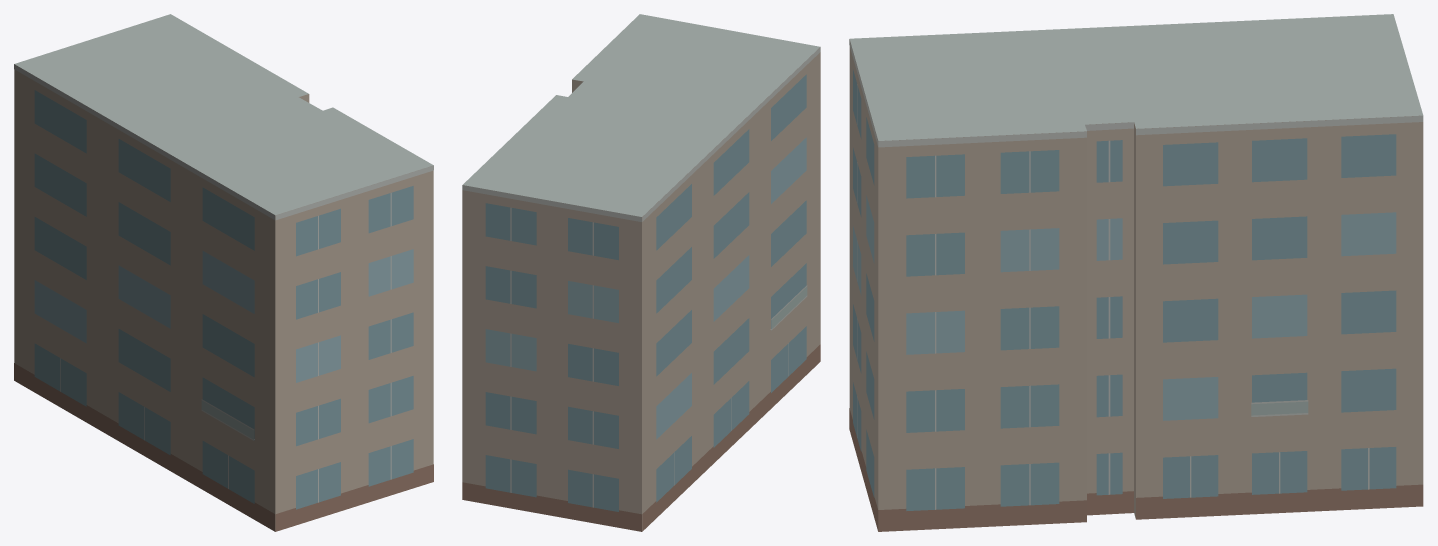
Rendered from survey-upis-33033188.glb.
3 views of the same model, side by side, from view 1: azimuth 30°, elevation 25°; view 2: azimuth 150°, elevation 25°; view 3: azimuth 270°, elevation 25° (orthographic). The views are drawn at different scales.
Parts seen in each view (by area): view 1: survey-upis-33033188.tmp; view 2: survey-upis-33033188.tmp; view 3: survey-upis-33033188.tmp.
Boxes of the visible parts, x1=… form: survey-upis-33033188.tmp: x1=14, y1=14, x2=433, y2=531; survey-upis-33033188.tmp: x1=462, y1=14, x2=820, y2=531; survey-upis-33033188.tmp: x1=849, y1=14, x2=1423, y2=531.
Size of the model in its own units: 10.44 by 14.95 by 19.91.
